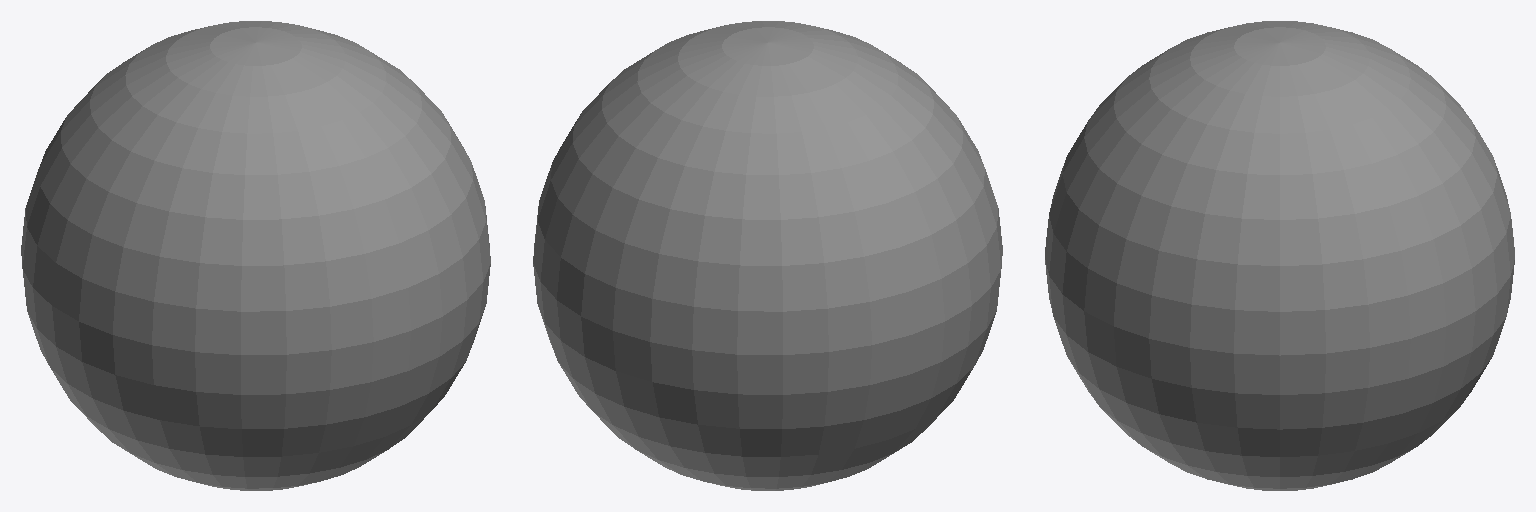
Rendered from sky3.obj.
3 renders of one model, left to right at view 1: azimuth 30°, elevation 25°; view 2: azimuth 150°, elevation 25°; view 3: azimuth 270°, elevation 25°, orthographic.
Visible parts, largest first — view 1: Sphere; view 2: Sphere; view 3: Sphere.
Part boxes in pixels (bbox=[...]): Sphere: bbox=[21, 21, 490, 490]; Sphere: bbox=[533, 21, 1002, 490]; Sphere: bbox=[1045, 21, 1514, 490].
Bounding box in the file's own units: 40 × 40 × 40.